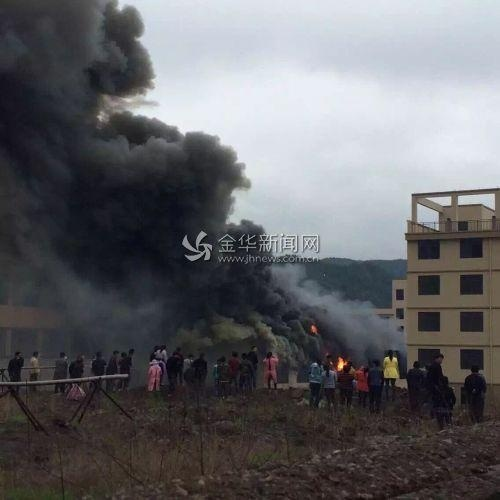fire: (335, 355, 348, 371), (310, 324, 319, 333)
